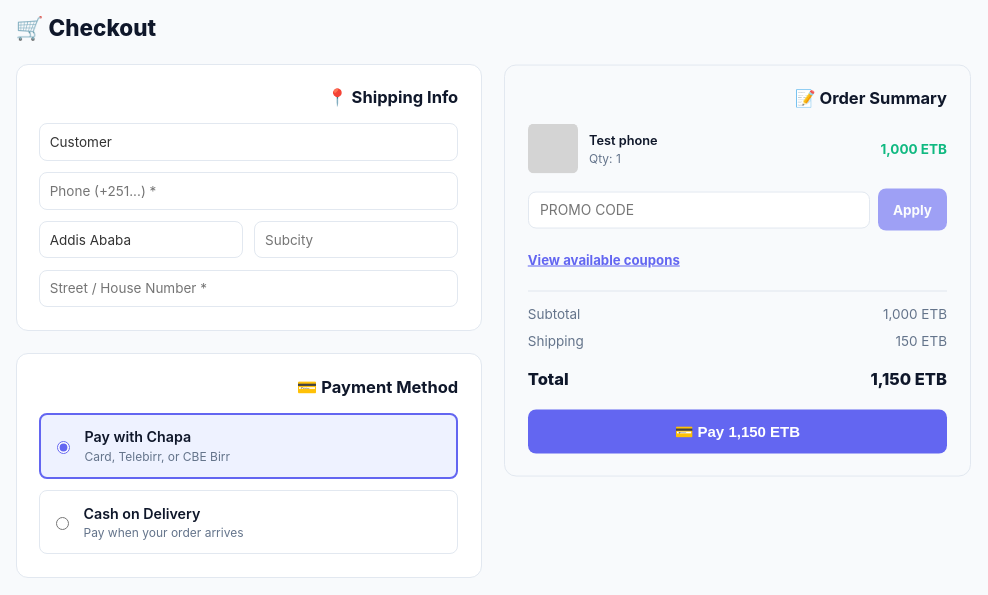
Test: Checkout promo codes › displays server error message when an invalid coupon is entered
The image size is (988, 595).
Type "INVALIDCODE" into the field labelled "Promo code" at (699, 210), box [528, 191, 870, 229]
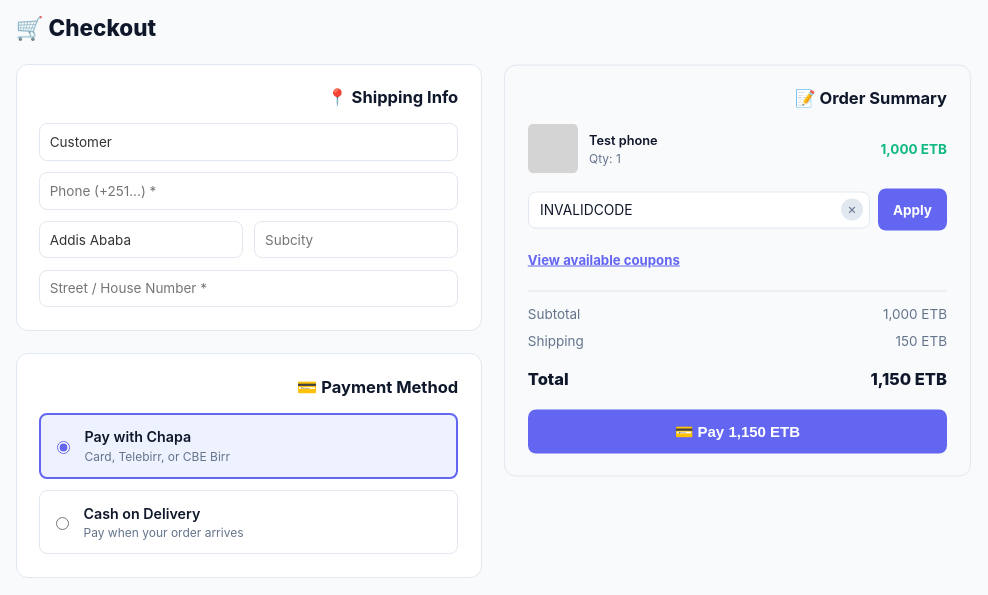
Click the button "Apply" at (912, 210), box [878, 189, 947, 231]
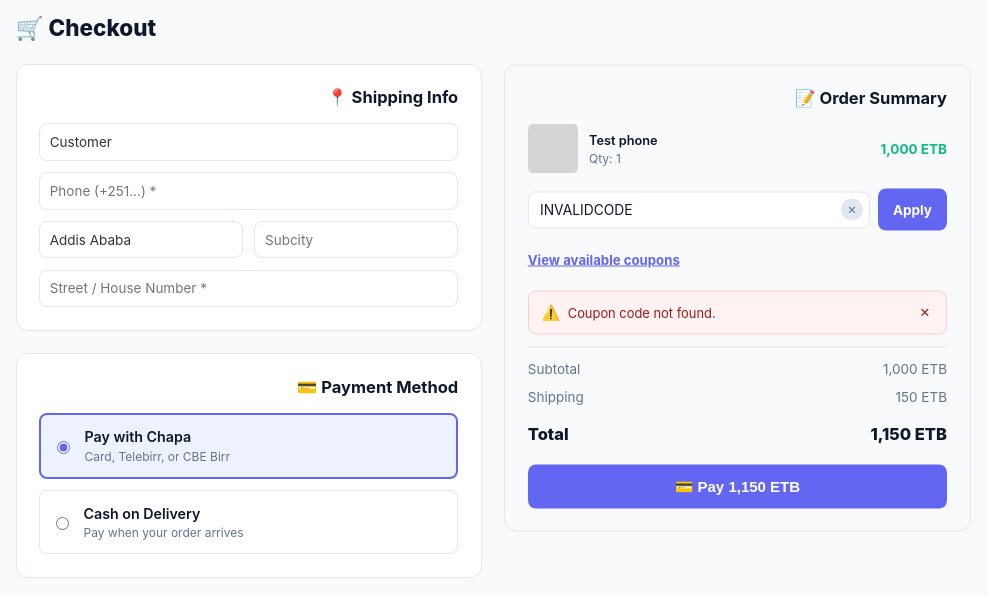
Expected: the text "Coupon code not found." is shown, [568, 304, 716, 322]
